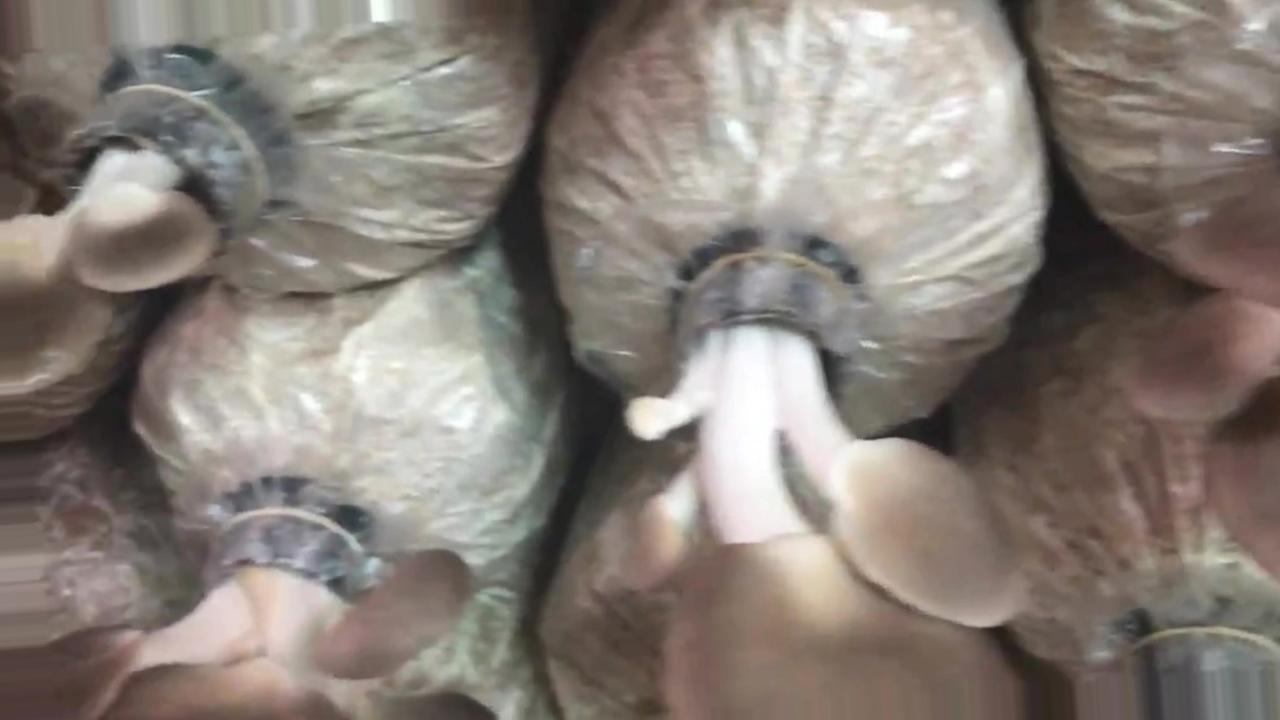nam: (610, 257, 1034, 720), (1, 517, 505, 720), (1, 75, 264, 398)
